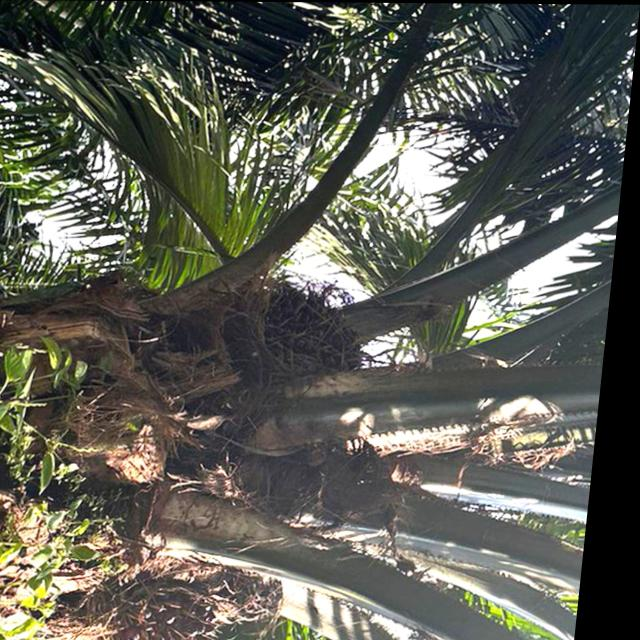unripe: (227, 262, 391, 400), (71, 544, 261, 640)
